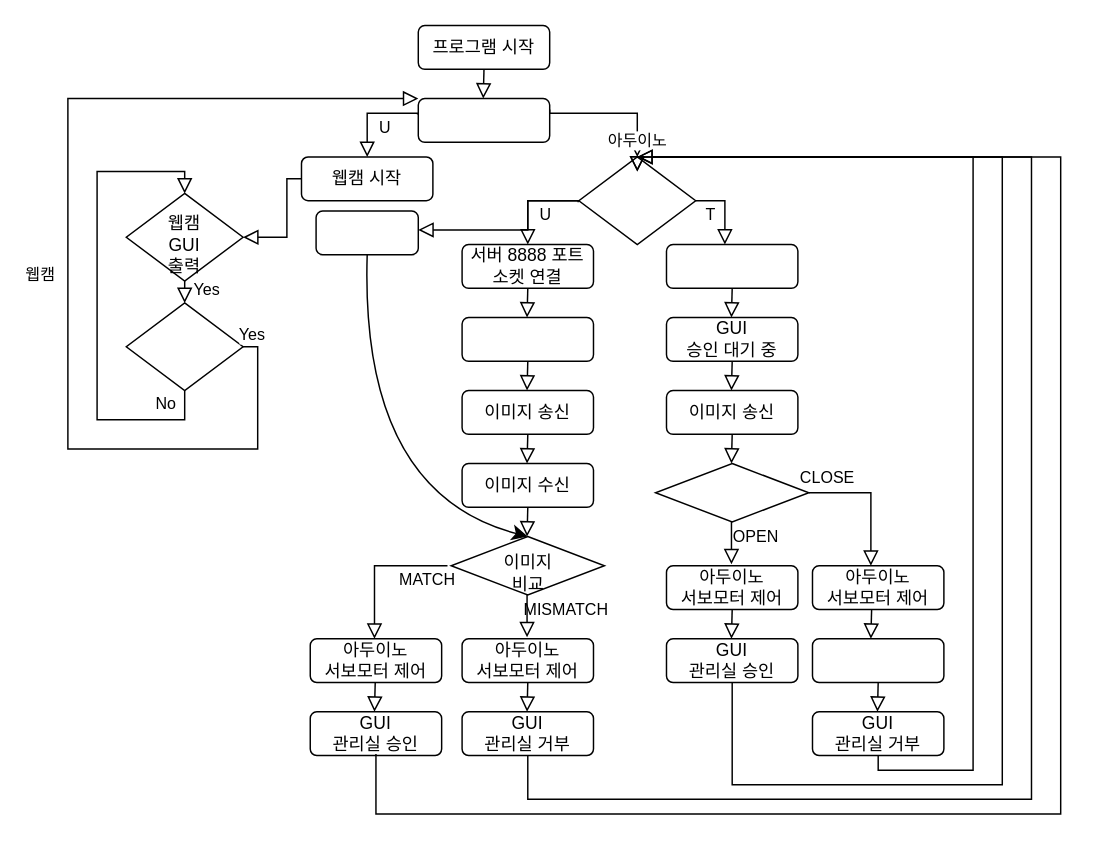
Image size: 1101x854. Some labels were removed from this diagram. The centre of each missing label's shape, as x and y in pixels:
PY QT5 GUI: (483,119)
SERIAL LISTEN: (636,200)
UID+@+LOG 문자열 전송: (527,338)
관리실 명령 수신: (731,492)
서버 8889 포트 소켓 연결: (731,265)
아두이노 부저 제어: (877,660)
웹캠 정지: (184,346)
프레임 캡처 이미지 저장: (366,232)
